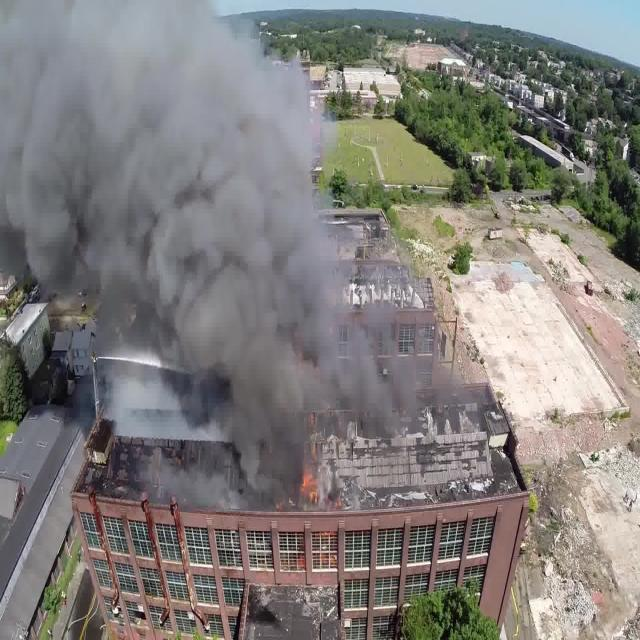Smoke: (0, 0, 437, 485)
